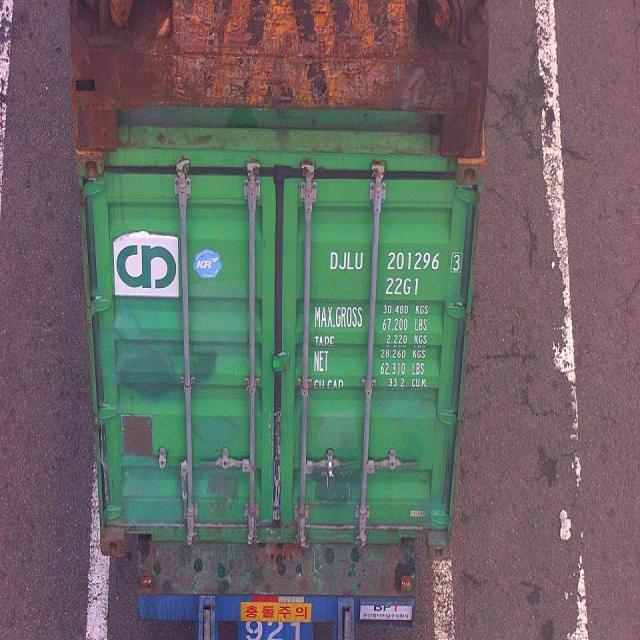ISO: (386, 278, 420, 297)
container_number: (326, 248, 456, 270)
